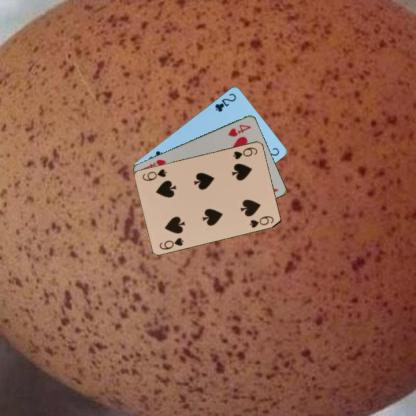2c: (212, 90, 238, 112)
4h: (225, 122, 252, 138)
6s: (230, 144, 259, 160), (157, 234, 185, 250)
